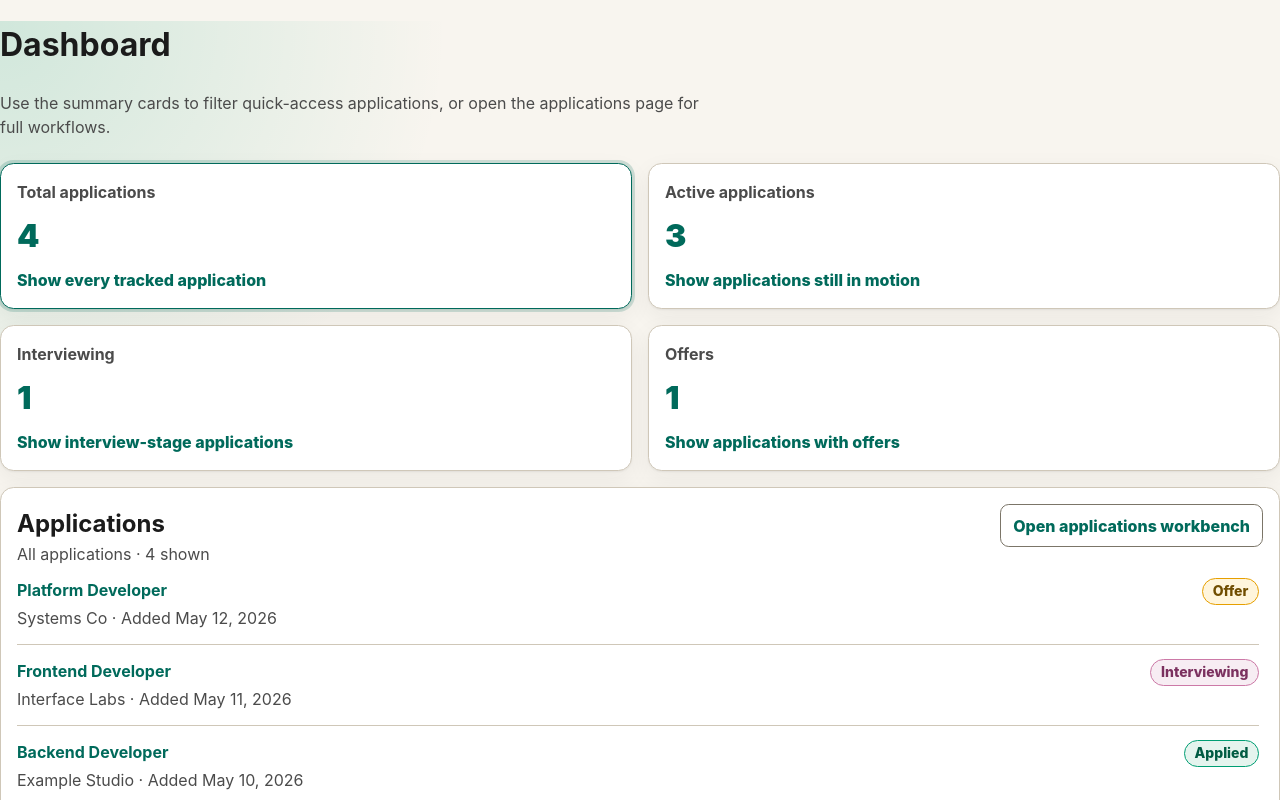
Test: DashboardPage › filters dashboard applications when a summary card is clicked
Expected: the link "Backend Developer" is shown, [17,742,168,762]
Click the button "Interviewing 1 Show interview-stage applications". click: (66, 354)
box: [0,325,632,471]
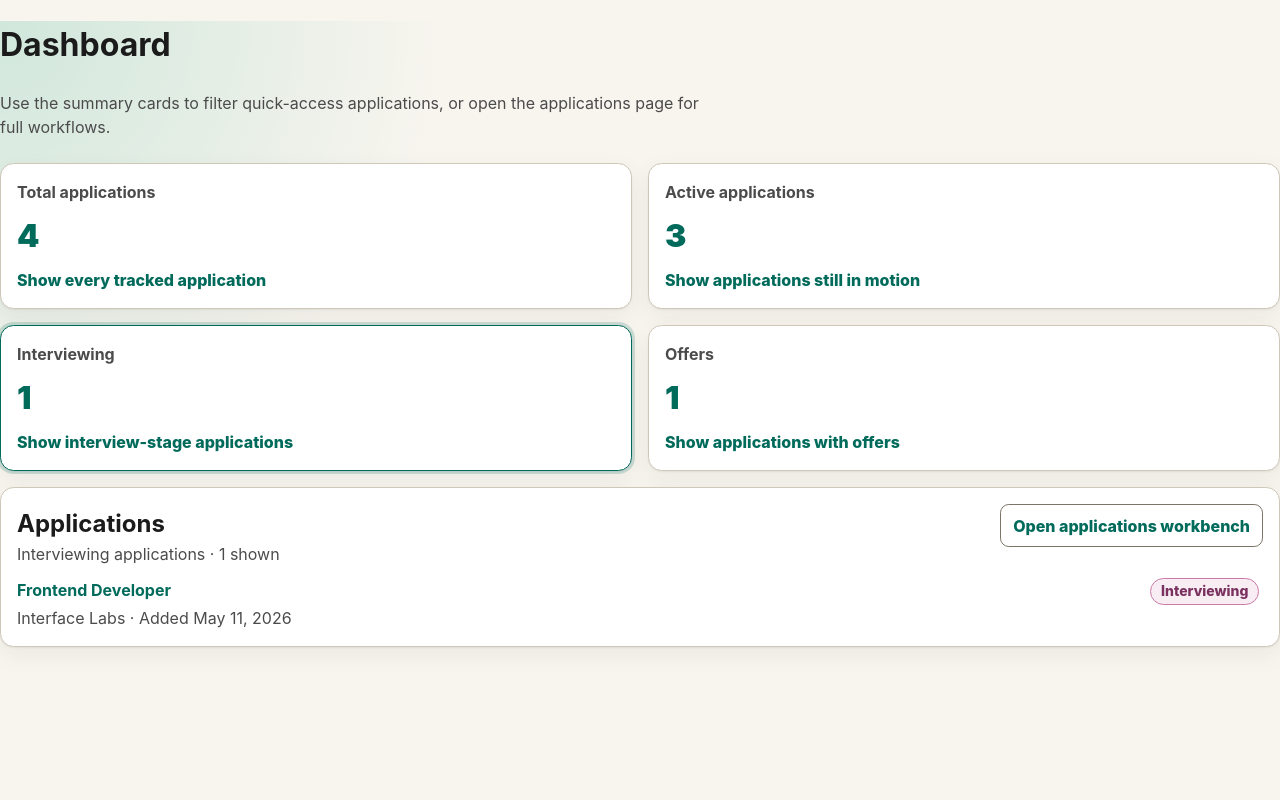
Expected: the link "Frontend Developer" is shown, [17,580,171,600]
Now the link "Backend Developer" is gone
Now the link "Platform Developer" is gone
